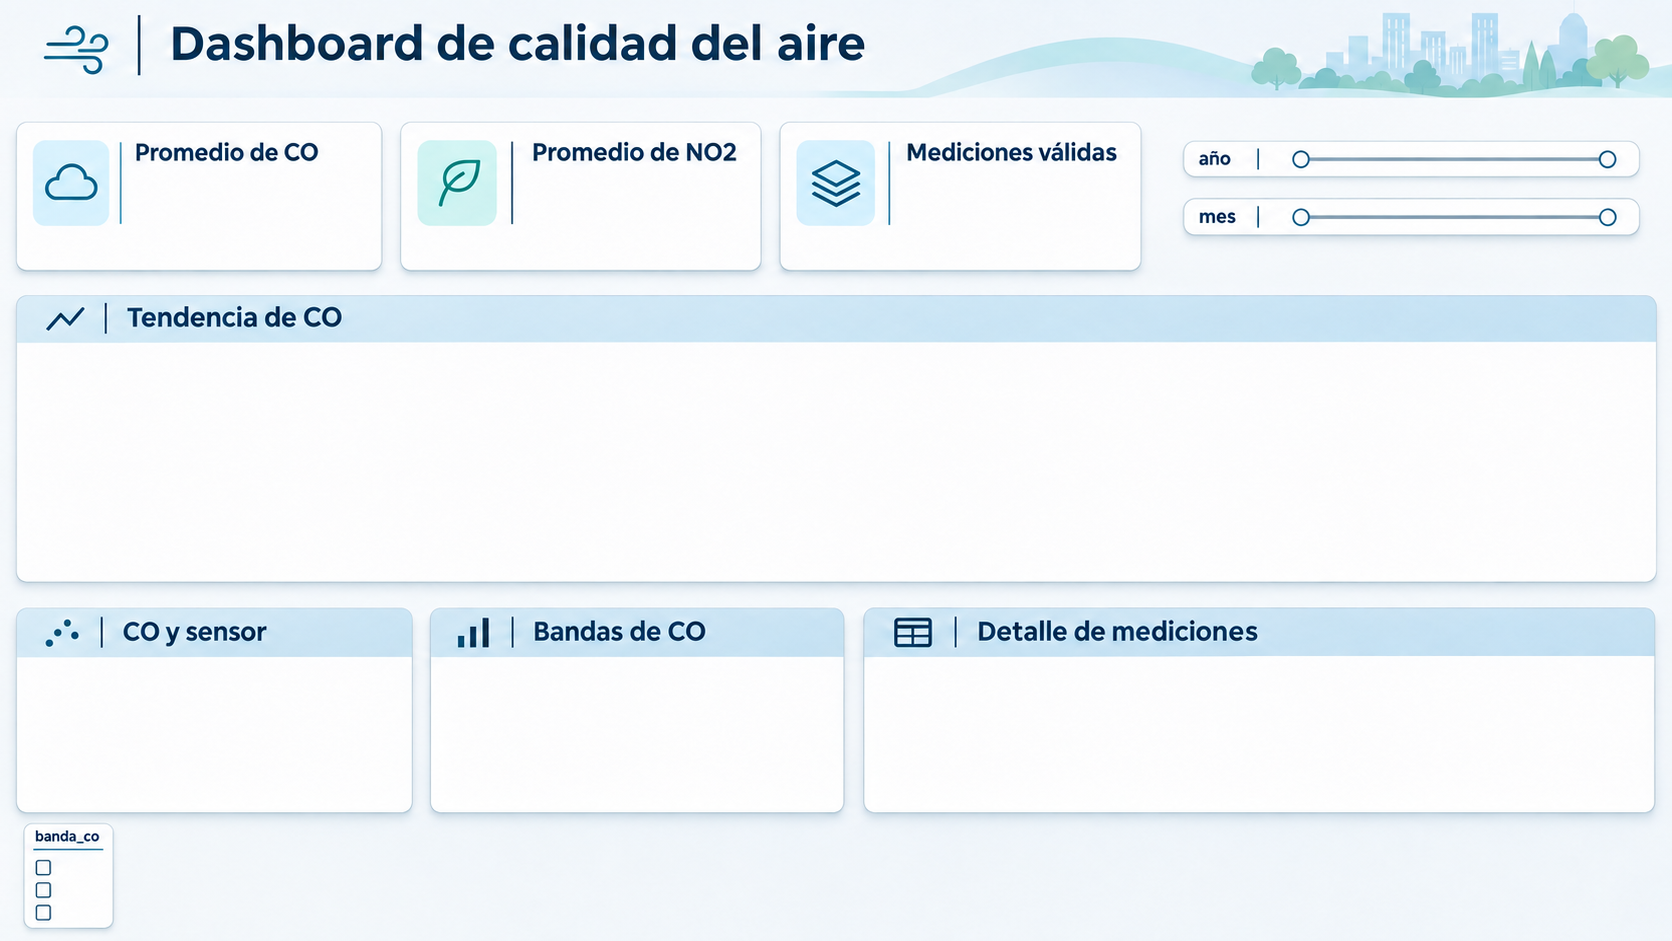

Layout of this report page (visuals, bound fields, positions):
{"tool":"powerbi","page":{"name":"Página 1","canvas":[1920,1080],"ordinal":0},"visuals":[{"type":"cardVisual","fields":{"Data":["Avg(hecho_calidad_aire.co_gt)"]},"box":[425.1,120.9,300,300],"z":0},{"type":"cardVisual","fields":{"Data":["Avg(hecho_calidad_aire.no2_gt)"]},"box":[74.7,120.9,300,300],"z":1000},{"type":"clusteredColumnChart","fields":{"Category":["hecho_calidad_aire.banda_co"],"Y":["CountNonNull(hecho_calidad_aire.banda_co)"]},"box":[758.7,120.9,300,300],"z":2000},{"type":"scatterChart","fields":{"Category":["hecho_calidad_aire.medicion_id"],"X":["Sum(hecho_calidad_aire.co_gt)"],"Y":["Sum(hecho_calidad_aire.pt08_s1_co)"]},"box":[1088,120,300,300],"z":3000},{"type":"slicer","fields":{"Values":["dim_tiempo.anio"]},"box":[74,432,300,300],"z":4000},{"type":"slicer","fields":{"Values":["dim_tiempo.mes"]},"box":[425,431,300,300],"z":5000},{"type":"slicer","fields":{"Values":["hecho_calidad_aire.banda_co"]},"box":[788.2,461.2,300,300],"z":6000},{"type":"textbox","box":[1398,120,300,300],"z":7000}]}

Visuals, with their boxes in screenshot pixels (x1, y1, x2, y2), scaled from the page's 1920x1080 canvas onto the 1672x941 screenshot:
cardVisual - Avg(hecho_calidad_aire.co_gt): [370, 105, 631, 367]
cardVisual - Avg(hecho_calidad_aire.no2_gt): [65, 105, 326, 367]
clusteredColumnChart - hecho_calidad_aire.banda_co x CountNonNull(hecho_calidad_aire.banda_co): [661, 105, 922, 367]
scatterChart - hecho_calidad_aire.medicion_id x Sum(hecho_calidad_aire.co_gt): [947, 105, 1209, 366]
slicer - dim_tiempo.anio: [64, 376, 326, 638]
slicer - dim_tiempo.mes: [370, 376, 631, 637]
slicer - hecho_calidad_aire.banda_co: [686, 402, 948, 663]
textbox: [1217, 105, 1479, 366]
